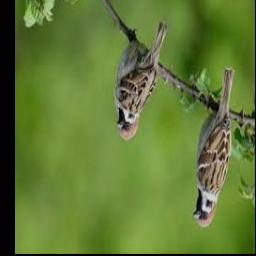Sparrow: (194, 67, 234, 228), (115, 22, 167, 141)
